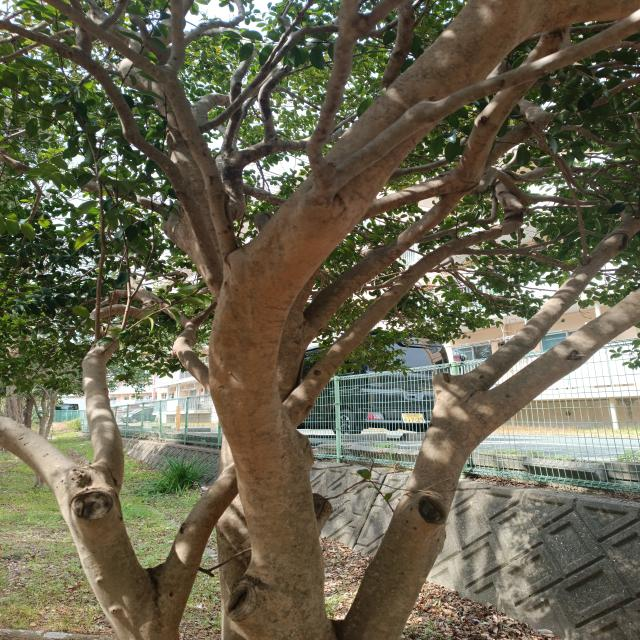Branch: (203, 0, 640, 640), (158, 241, 462, 631), (306, 99, 550, 344), (345, 378, 495, 637), (57, 459, 179, 640)
Twig: (309, 11, 640, 200), (1, 21, 220, 294), (41, 0, 221, 257), (362, 24, 573, 219), (434, 203, 638, 390), (487, 286, 640, 431), (307, 1, 406, 185), (198, 24, 343, 131), (81, 322, 128, 486), (451, 168, 546, 246), (0, 417, 78, 488)
